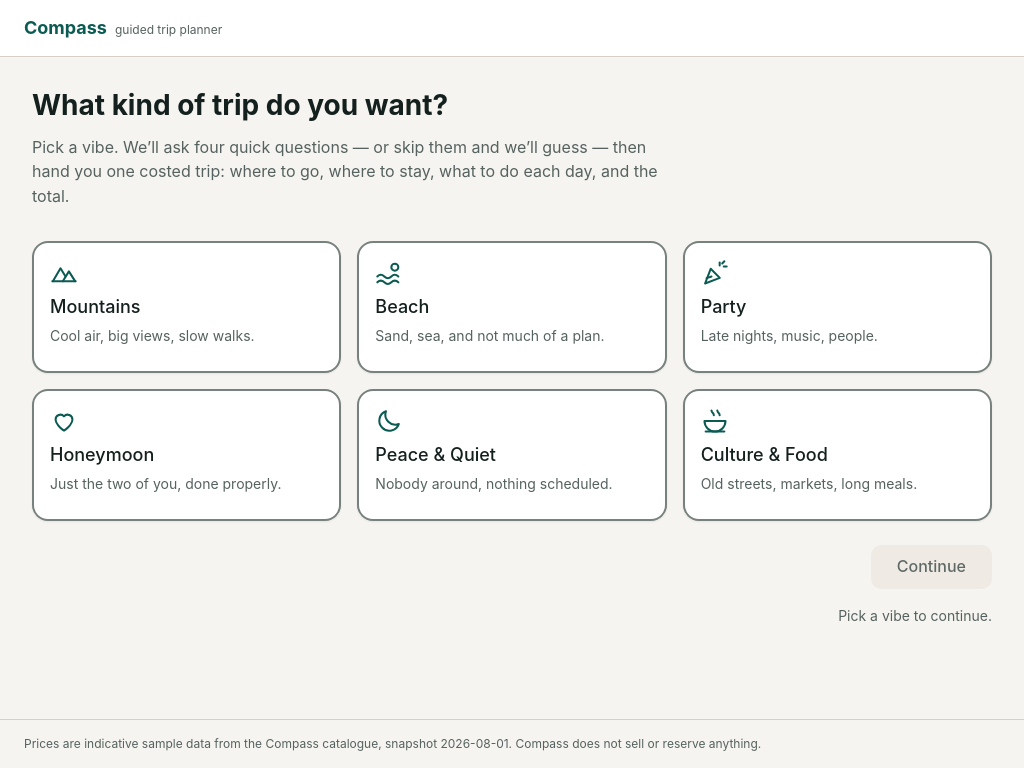
Test case: the alternatives (R11) › switches the itinerary, the breakdown, the budget line and the plan ID together
The width and height of the screenshot is (1024, 768).
Click the button "Beach Sand, sea, and not much of a plan." at (402, 306), box [357,241,667,373]
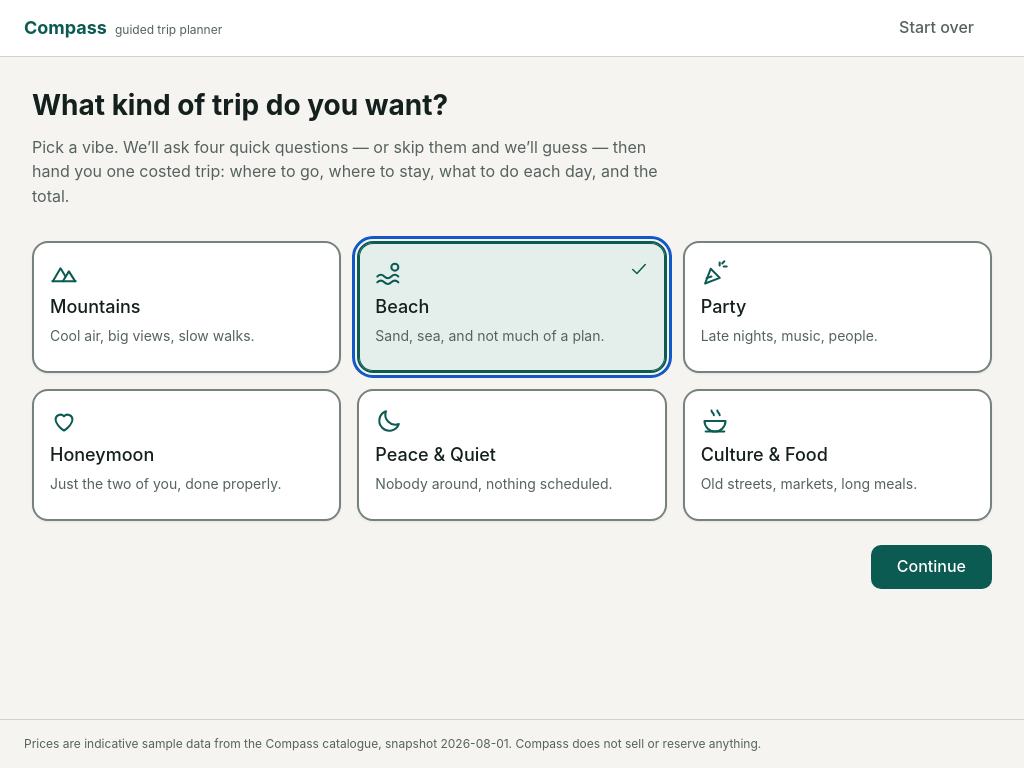
Click the button "Continue" at (931, 567), box [871,545,992,589]
(page scrolled)
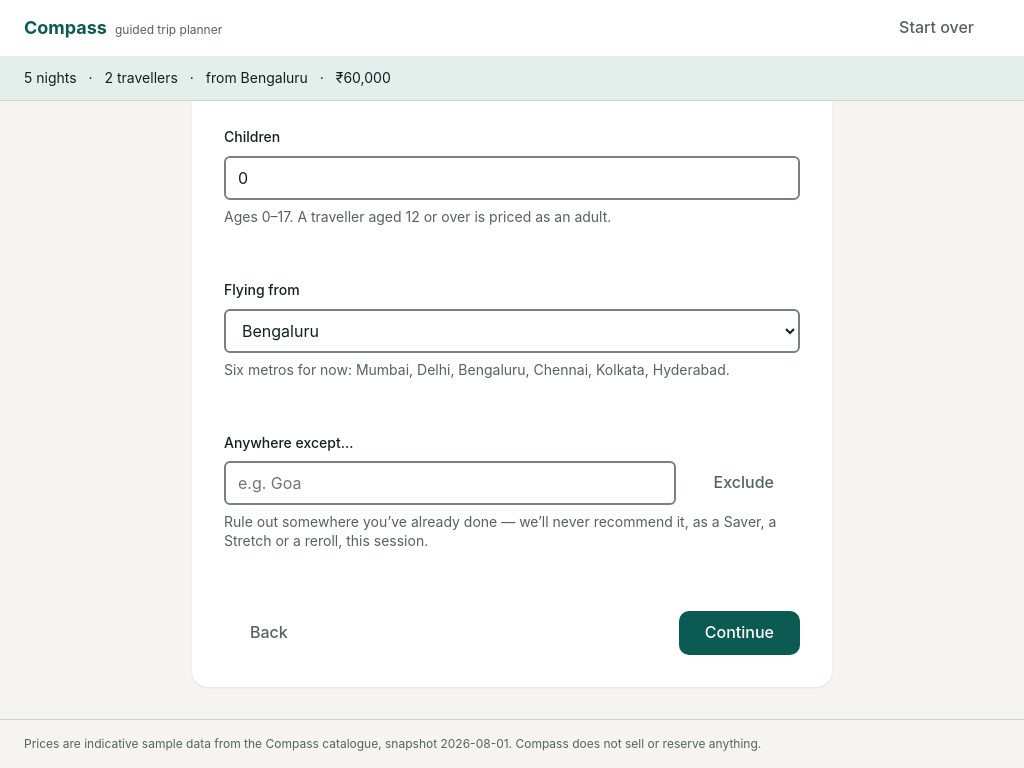
Click the button "Continue" at (739, 633), box [679,611,800,655]
(page scrolled)
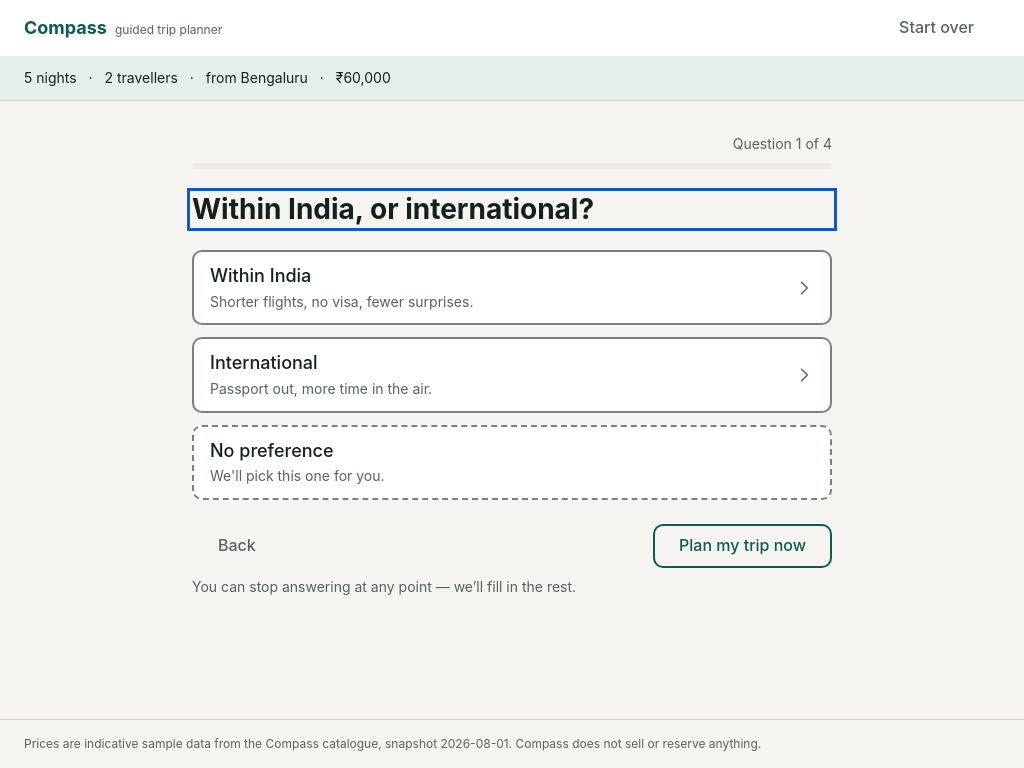
Now the text "Question 1 of 4" is shown, box [733,135,832,152]
Click the button "Plan my trip now" at (743, 546), box [653,524,832,568]
(page scrolled)
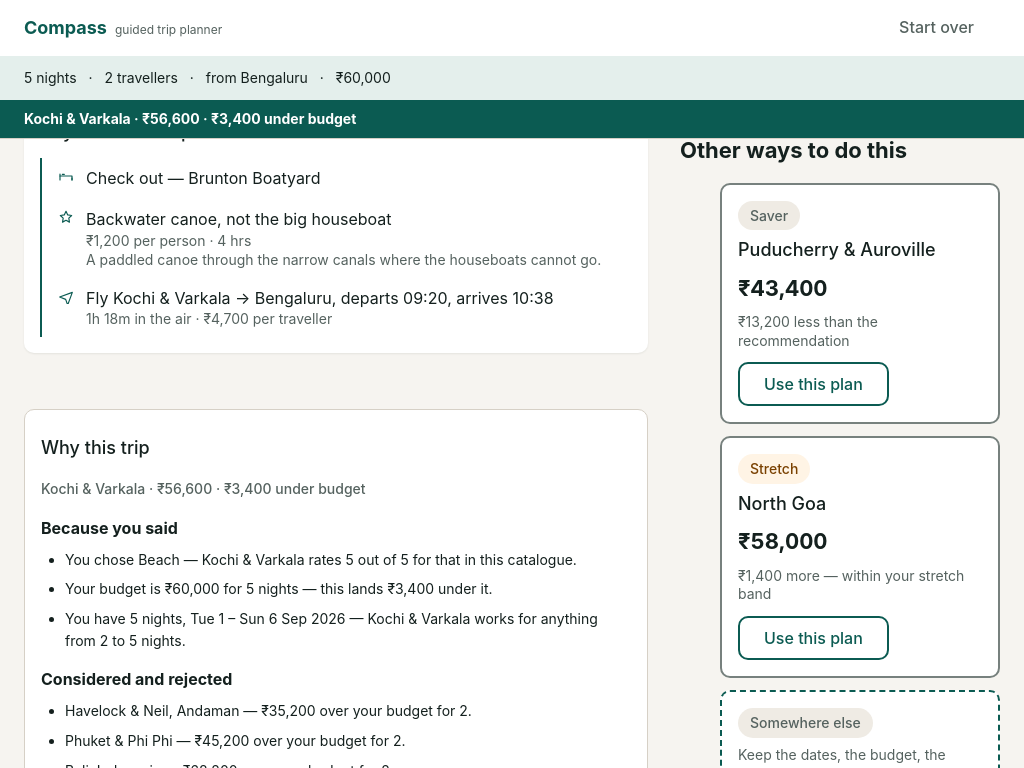
Now the text "Saver" is shown, box [738,201,800,230]
Now the text "₹13,200 less than the recommendation" is shown, box [738,313,878,349]
Click the button "Use this plan" below "Saver" at (813, 384), box [738,362,889,406]
(page scrolled)
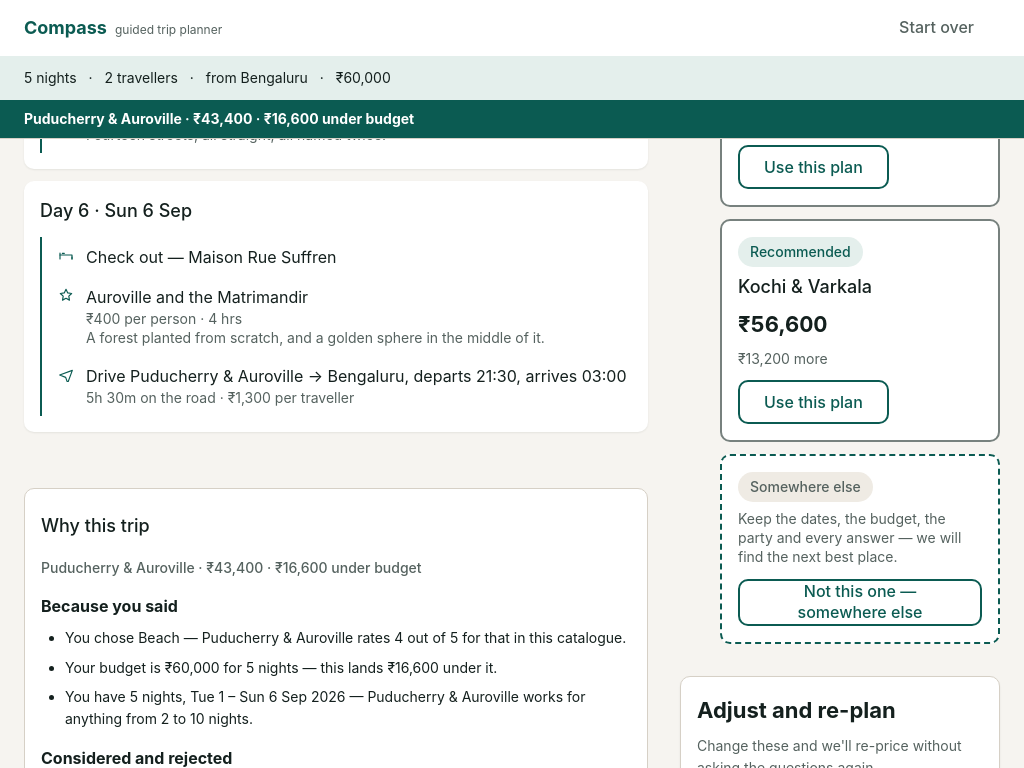
Now the heading no longer shows "Kochi & Varkala"
Now the text "Recommended" is shown, box [738,238,863,267]
Now the text "₹13,200 more" is shown, box [738,350,828,368]
Click the button "Use this plan" below "Recommended" at (813, 402), box [738,380,889,424]
(page scrolled)
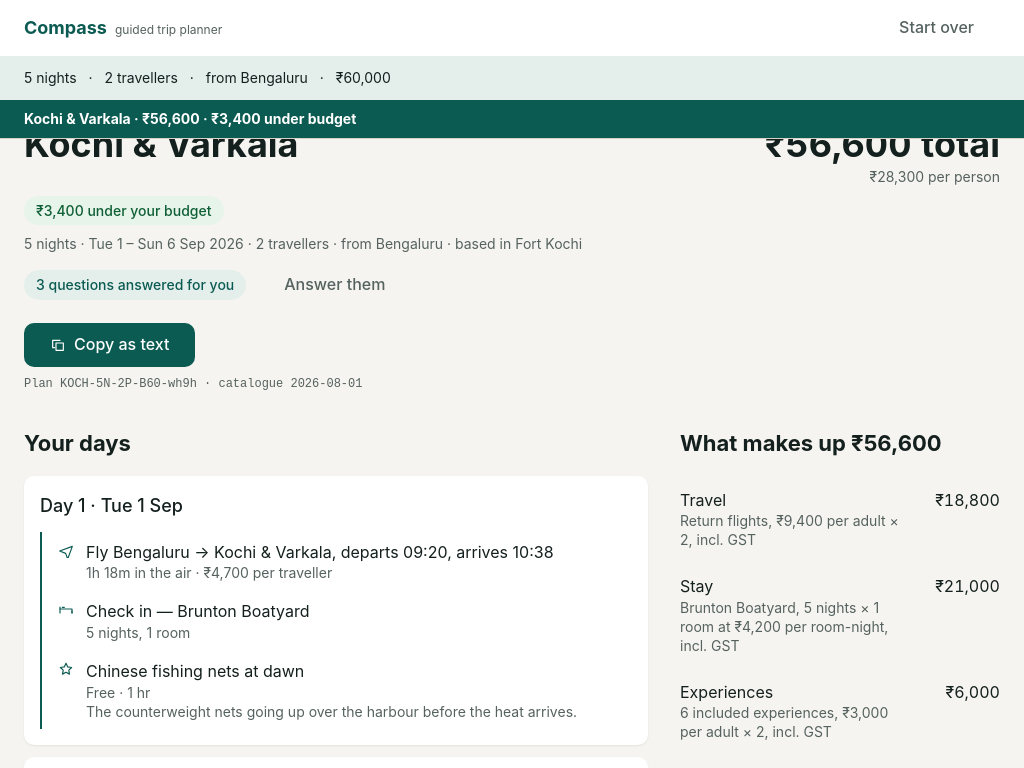
Now the heading "Kochi & Varkala" is shown, box [24,123,298,166]
